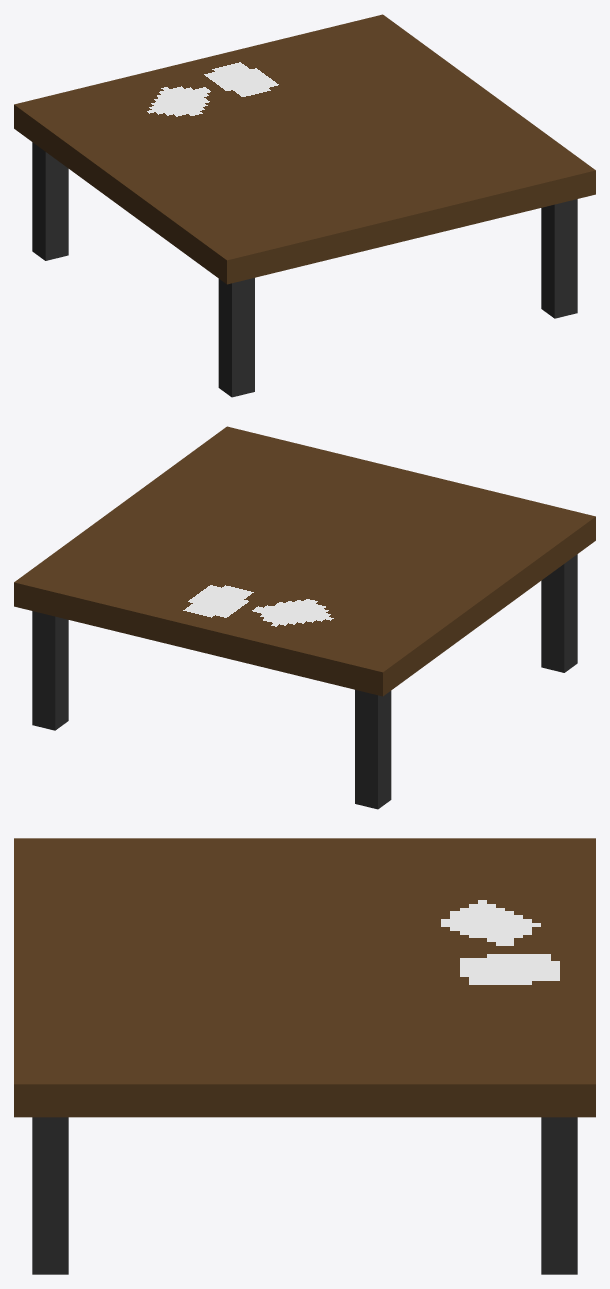
The picture shows the model from 3 angles, top to bottom: view 1: azimuth 30°, elevation 25°; view 2: azimuth 150°, elevation 25°; view 3: azimuth 270°, elevation 25°; orthographic projection. The views are drawn at different scales.
Visible parts, largest first — view 1: cube; view 2: cube; view 3: cube.
Boxes of the visible parts, x1,y1,x2,y2 form: cube: (14, 14, 595, 397); cube: (14, 426, 595, 809); cube: (14, 838, 595, 1274).
Size of the model in its own units: 2 by 0.75 by 2.
1 material, 1 textured.
